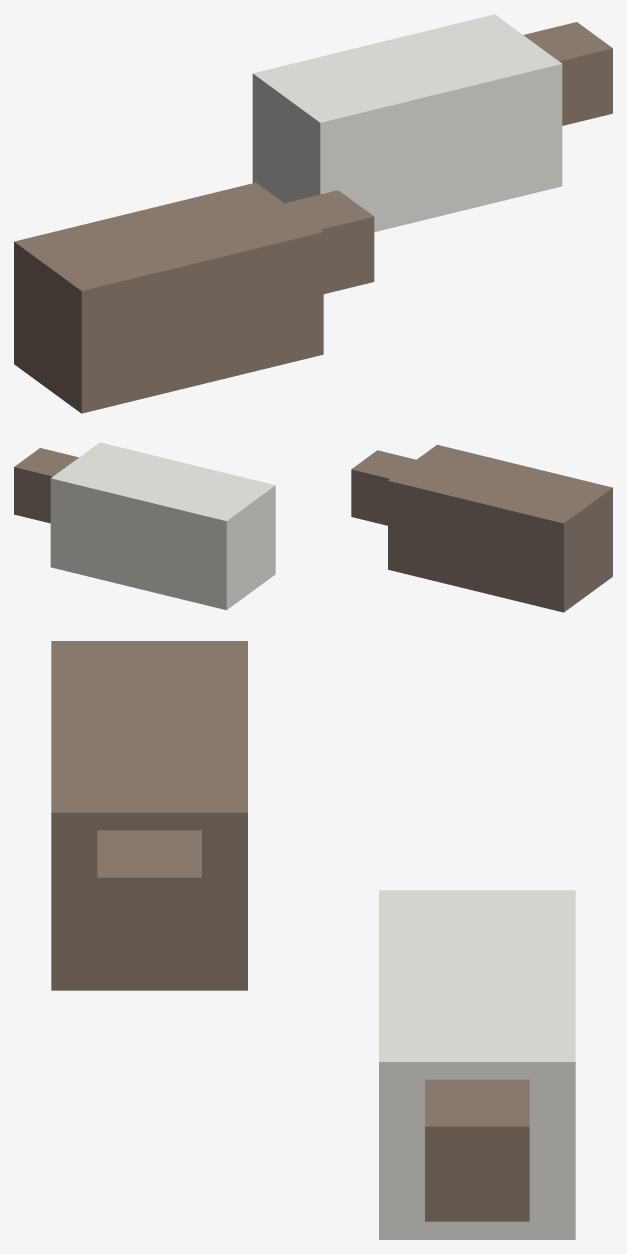
Rendered from prop_cattle.glb.
The picture shows the model from 3 angles, top to bottom: view 1: azimuth 30°, elevation 25°; view 2: azimuth 150°, elevation 25°; view 3: azimuth 270°, elevation 25°; orthographic projection. The views are drawn at different scales.
Visible parts, largest first — view 1: prop_cattle; view 2: prop_cattle; view 3: prop_cattle.
Part boxes in pixels (x1,y1,x2,y2): prop_cattle: (14, 14, 612, 413); prop_cattle: (14, 442, 612, 612); prop_cattle: (51, 641, 575, 1239).
Bounding box in the file's own units: 0.169 × 0.03 × 0.08.
